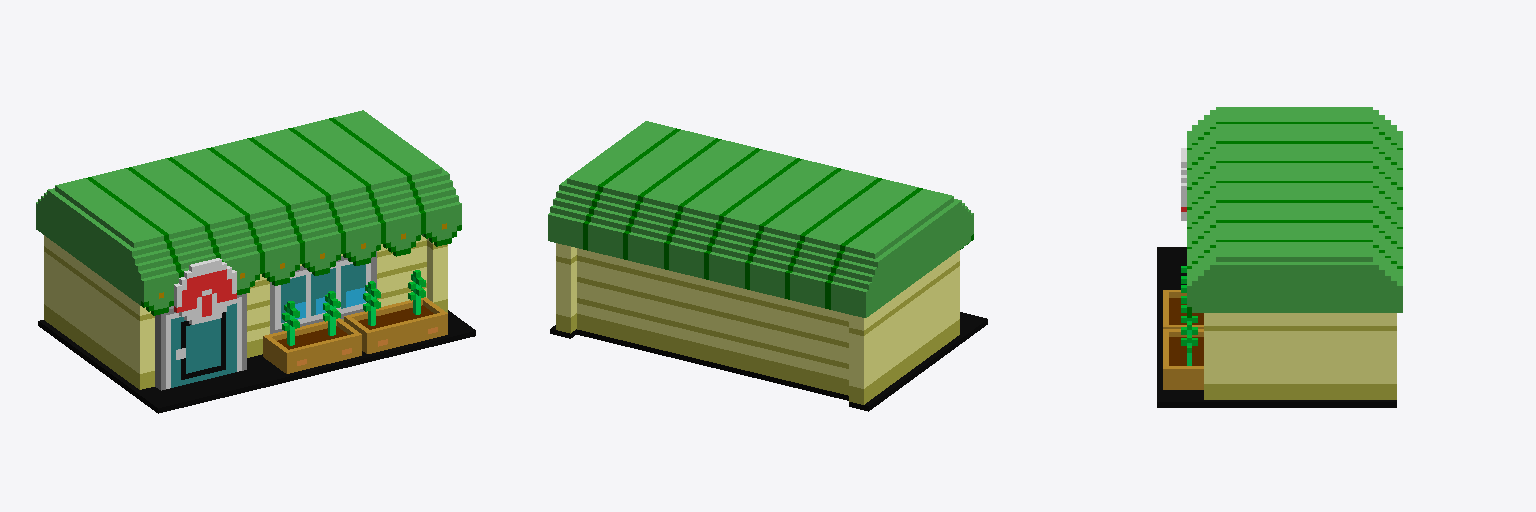
3 views of the same model, side by side, from view 1: azimuth 30°, elevation 25°; view 2: azimuth 150°, elevation 25°; view 3: azimuth 270°, elevation 25° (orthographic).
Parts seen in each view (by area): view 1: object 1; view 2: object 1; view 3: object 1.
Boxes of the visible parts, box(x1,y1,x2,y2) form: object 1: box(36, 110, 475, 413); object 1: box(548, 121, 987, 411); object 1: box(1157, 107, 1402, 407).
Size of the model in its own units: 6.3 by 2.8 by 4.2.
Materials: 1 (1 with a texture image).